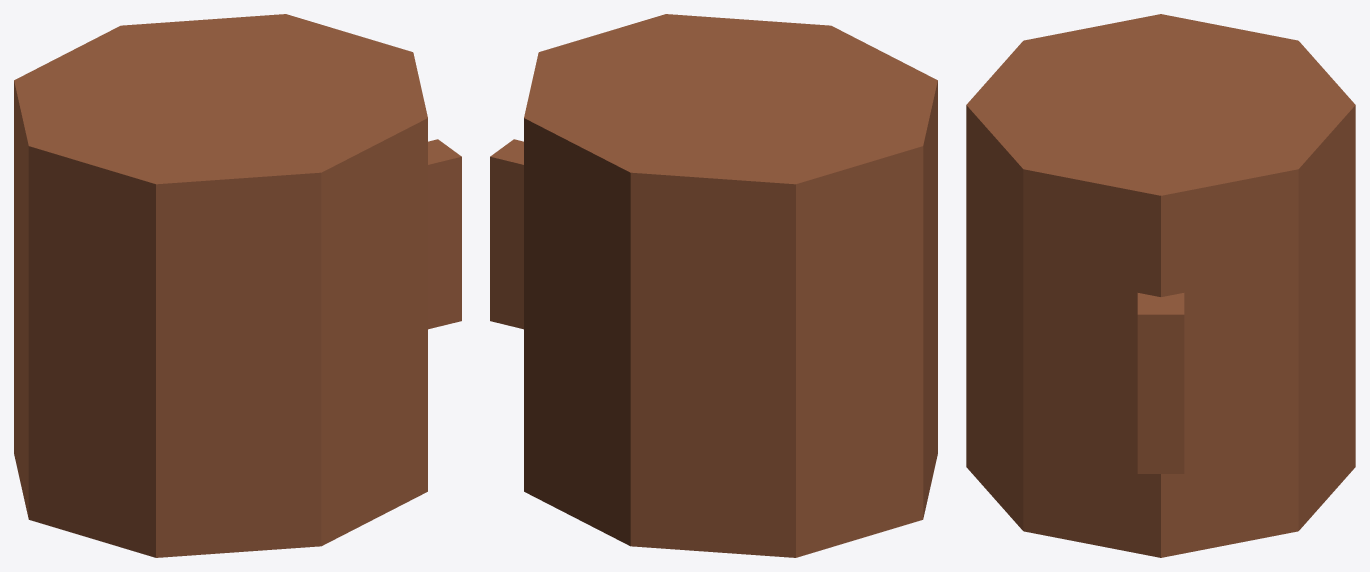
File: SM_Wood_Mug.glb
The picture shows the model from 3 angles, left to right: view 1: azimuth 30°, elevation 25°; view 2: azimuth 150°, elevation 25°; view 3: azimuth 270°, elevation 25°; orthographic projection. The views are drawn at different scales.
Parts seen in each view (by area): view 1: SM_Wood_Mug; view 2: SM_Wood_Mug; view 3: SM_Wood_Mug.
Part boxes in pixels (x1,y1,x2,y2): SM_Wood_Mug: [14, 14, 461, 557]; SM_Wood_Mug: [490, 14, 937, 557]; SM_Wood_Mug: [966, 14, 1355, 557].
Size of the model in its own units: 0.138 by 0.117 by 0.114.
1 material, 1 textured.
